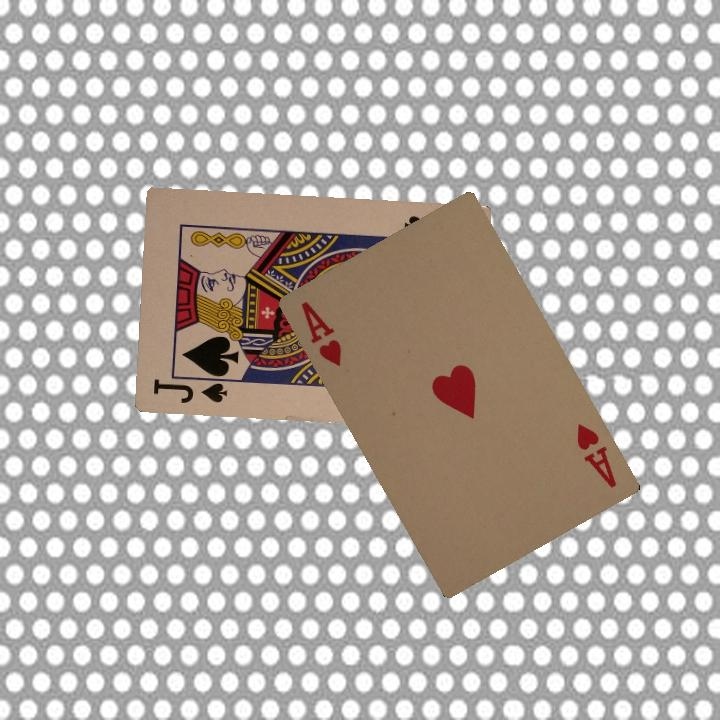Ah: (297, 297, 345, 370), (572, 419, 620, 491)
Js: (149, 370, 229, 406)
